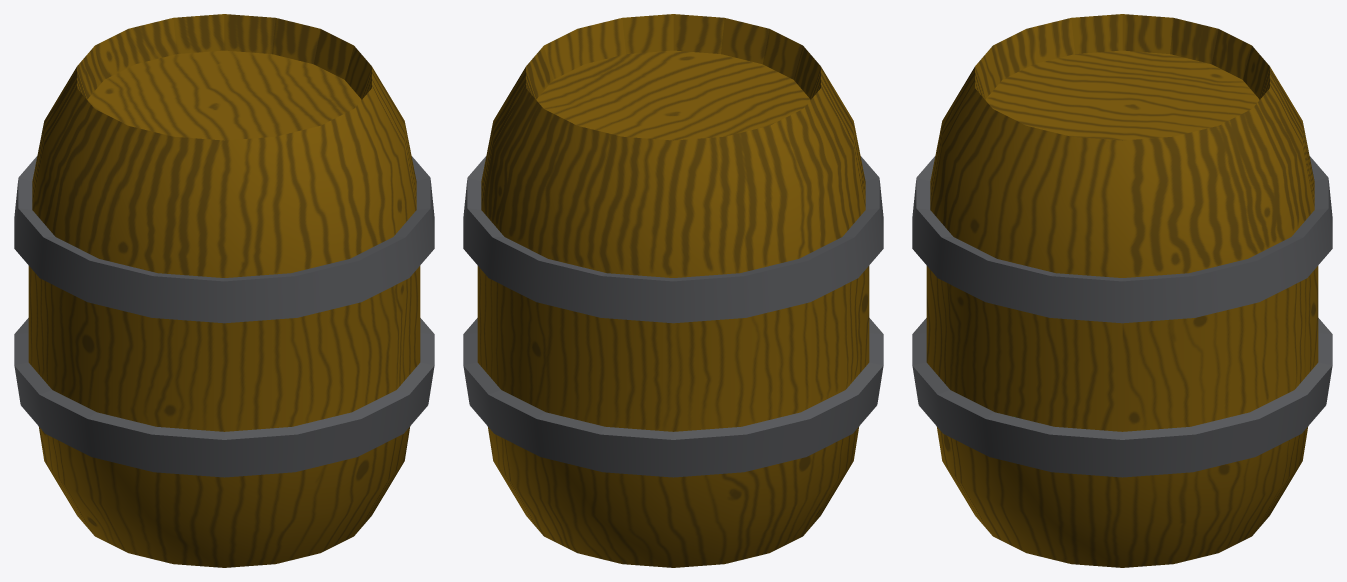
File: Tynnyri.fbx
The picture shows the model from 3 angles, left to right: view 1: azimuth 30°, elevation 25°; view 2: azimuth 150°, elevation 25°; view 3: azimuth 270°, elevation 25°; orthographic projection.
Parts seen in each view (by area): view 1: Tynnyri; view 2: Tynnyri; view 3: Tynnyri.
Part boxes in pixels (x1,y1,x2,y2): Tynnyri: (14, 14, 434, 567); Tynnyri: (463, 14, 883, 567); Tynnyri: (912, 14, 1332, 567).
Bounding box in the file's own units: 86.82 × 95.96 × 85.5.
